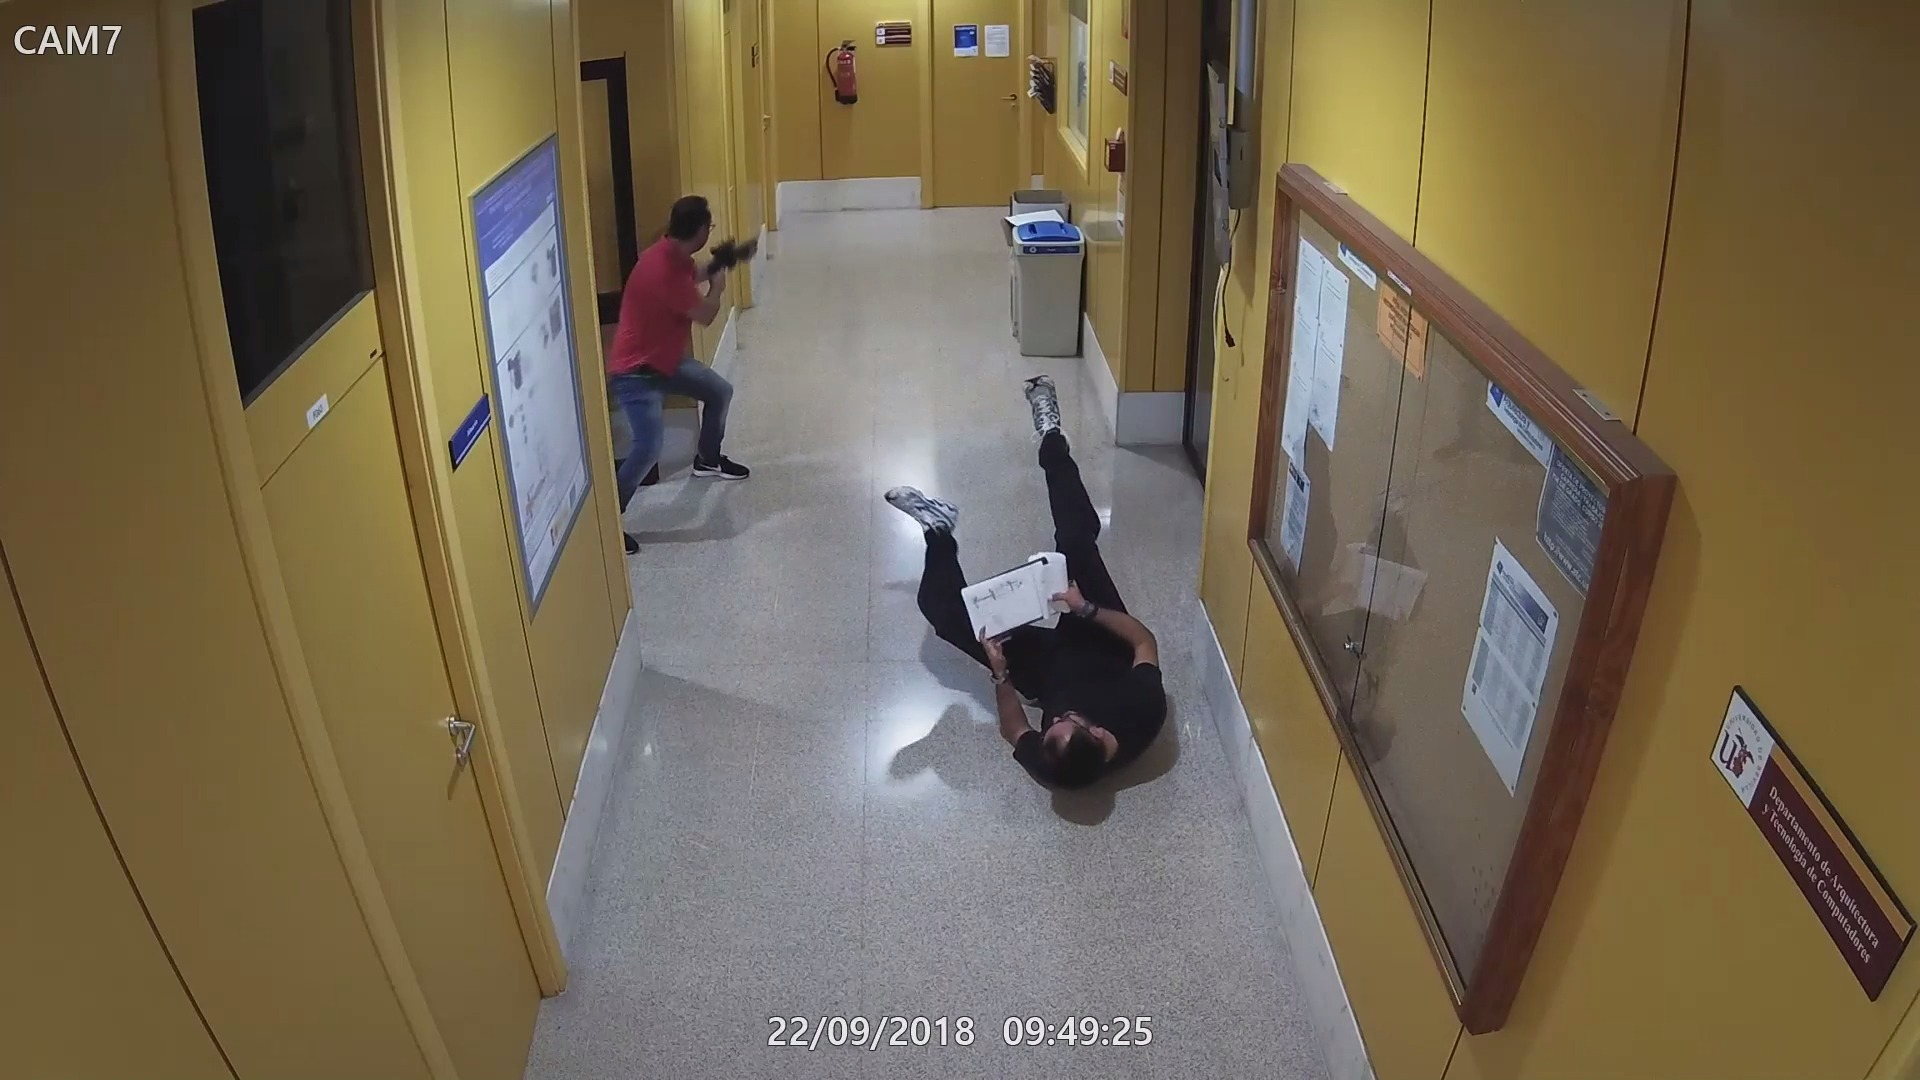rifle: (702, 231, 762, 282)
